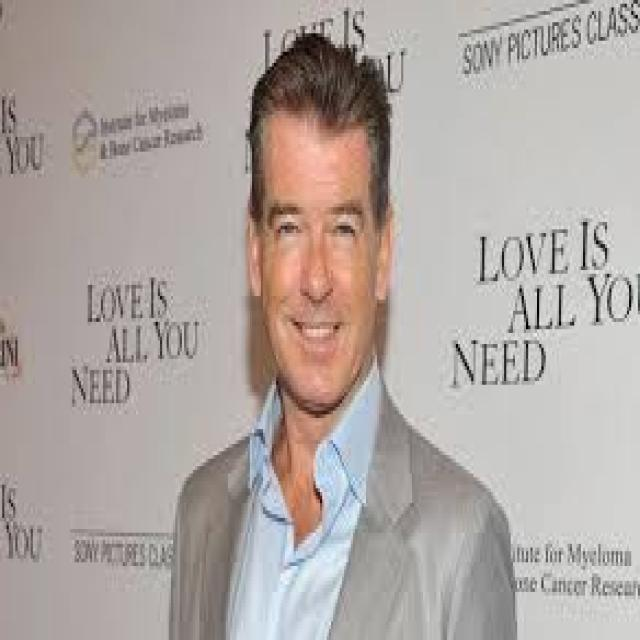normal_face: (253, 28, 408, 456)
